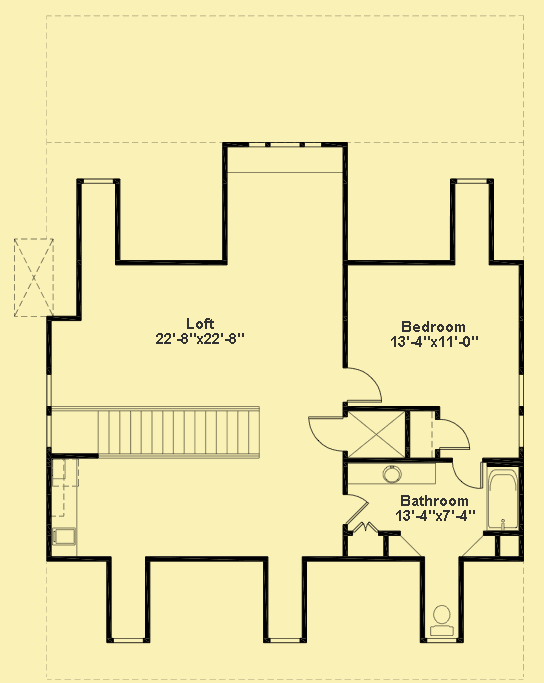door: (342, 365, 386, 405), (304, 415, 346, 453), (434, 417, 473, 453), (452, 457, 485, 491), (344, 490, 372, 524)
large_sink: (429, 603, 455, 639)
small_sink: (347, 459, 439, 487)
stairs: (51, 404, 262, 460)
tub: (485, 468, 518, 531)
window: (242, 137, 323, 153), (79, 174, 118, 186), (453, 175, 487, 188), (266, 635, 300, 648), (111, 633, 145, 646)
